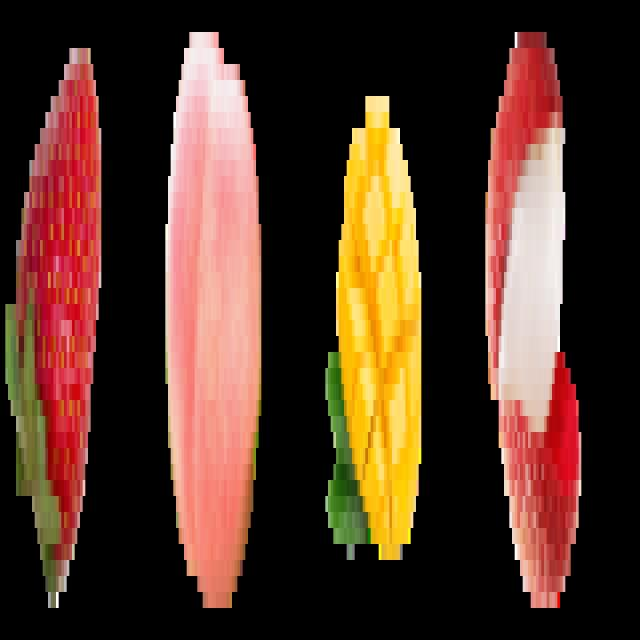lychee: (483, 19, 581, 613)
mango: (324, 77, 426, 584)
peach: (163, 26, 264, 616)
strawberry: (4, 52, 109, 622)
